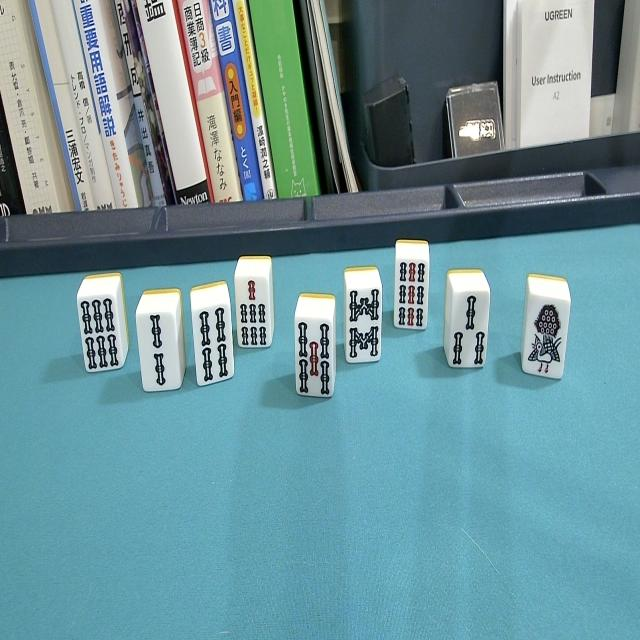1_sou: (520, 272, 572, 389)
2_sou: (135, 290, 185, 400)
3_sou: (443, 270, 491, 376)
4_sou: (189, 284, 236, 390)
5_sou: (294, 295, 338, 406)
6_sou: (76, 274, 130, 379)
7_sou: (234, 253, 276, 352)
8_sou: (343, 268, 383, 368)
9_sou: (392, 238, 430, 337)
